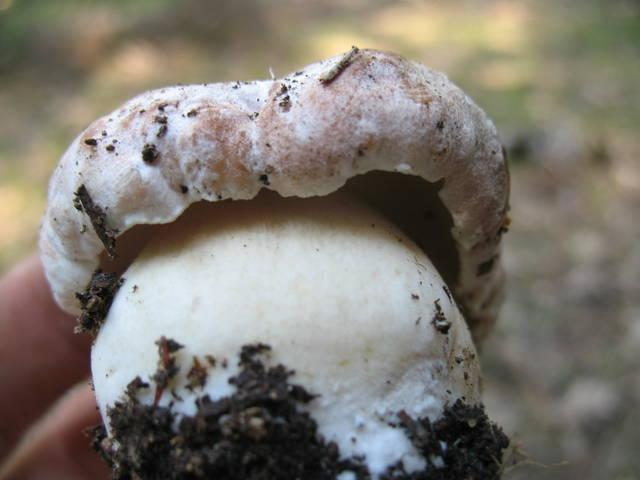Edible Mushroom: (37, 45, 513, 479)
